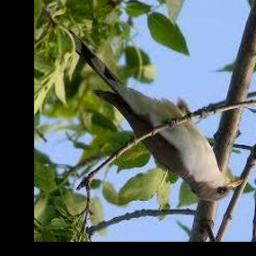Cuckoo: (64, 28, 244, 201)
